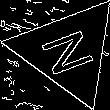N_E: (35, 22, 101, 79)
